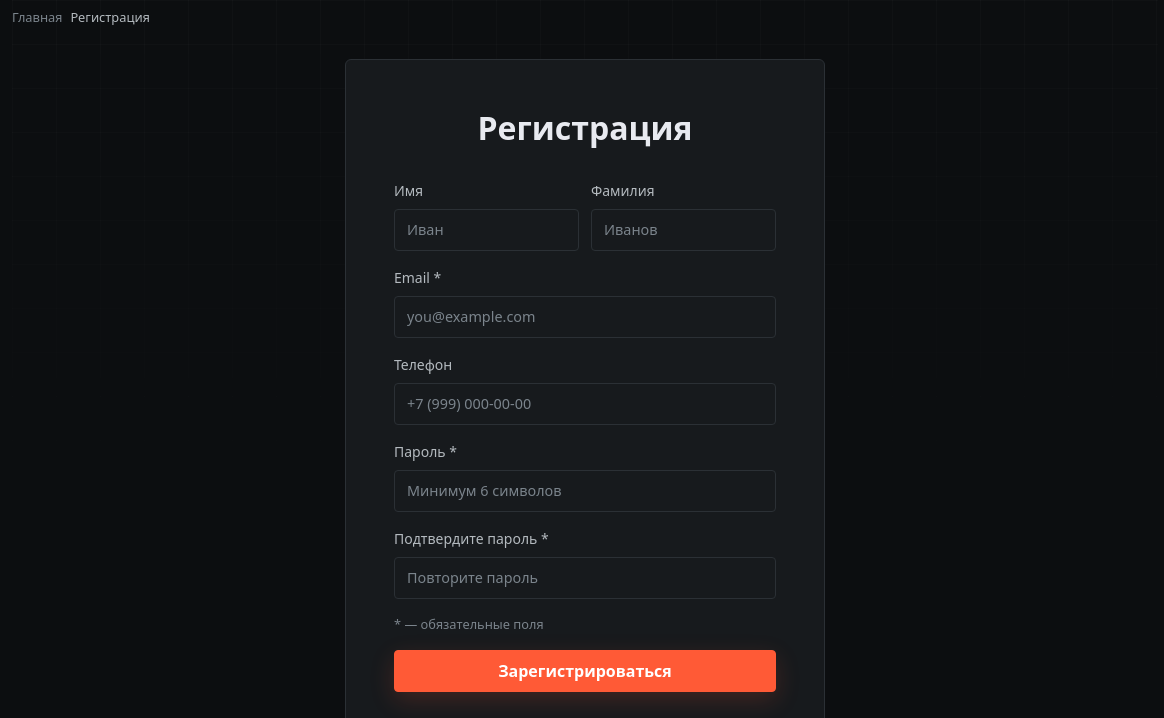
RegisterPage › validates password confirmation on client
The width and height of the screenshot is (1164, 718).
Type "new@example.com" into the field labelled "Email *". click: (585, 317)
box: [394,296,776,338]
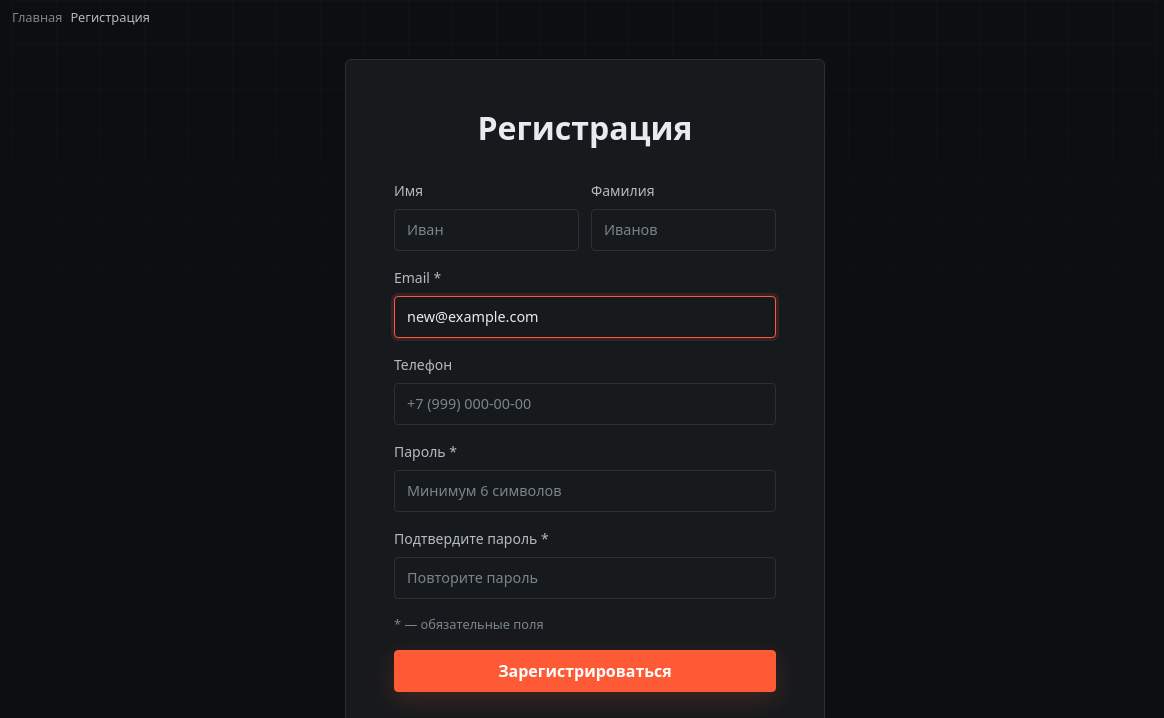
Type "Secret123" into the password field labelled "Пароль *". click: (585, 491)
box: [394,470,776,512]
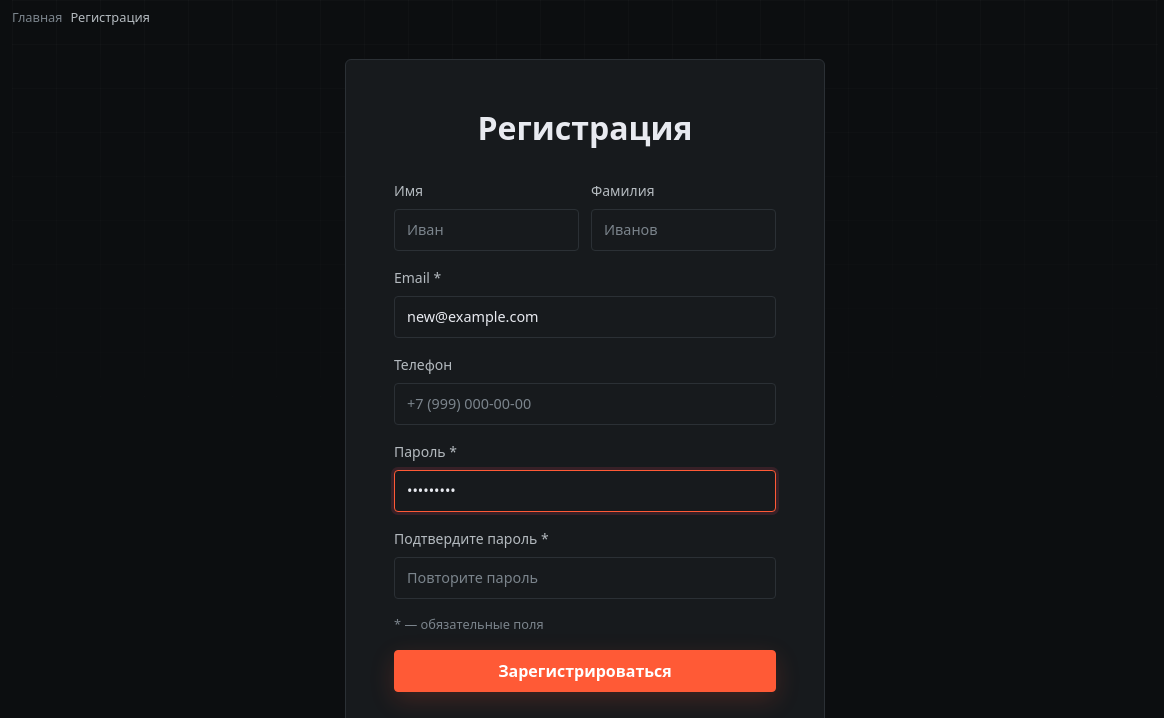
Type "Secret124" into the password field labelled "Подтвердите пароль *". click: (585, 578)
box: [394,557,776,599]
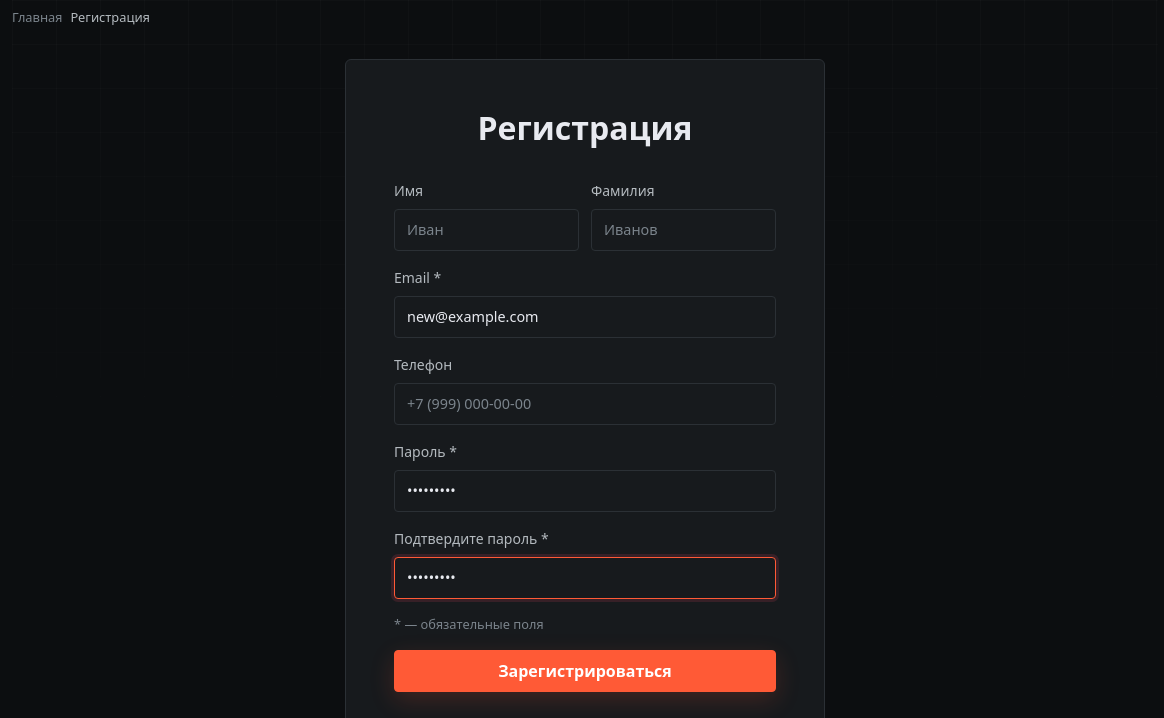
Click the button. click: (585, 671)
box: [394,650,776,692]
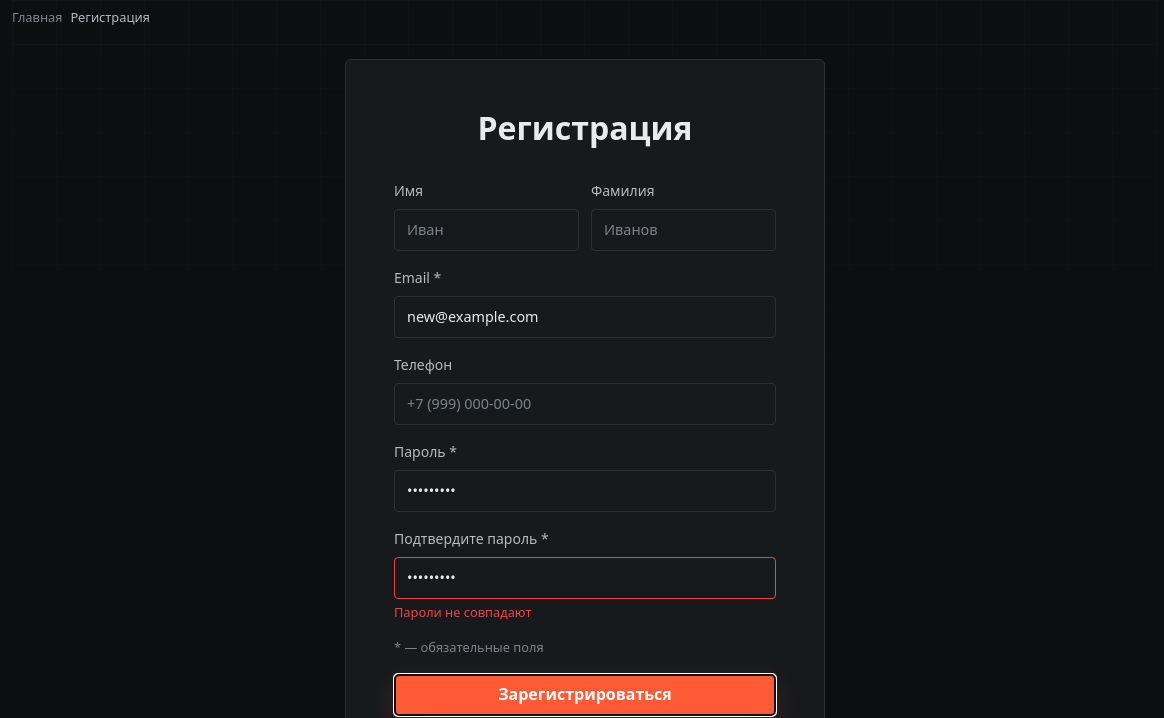
Check: the text "Пароли не совпадают" is shown, box [394,603,532,621]
